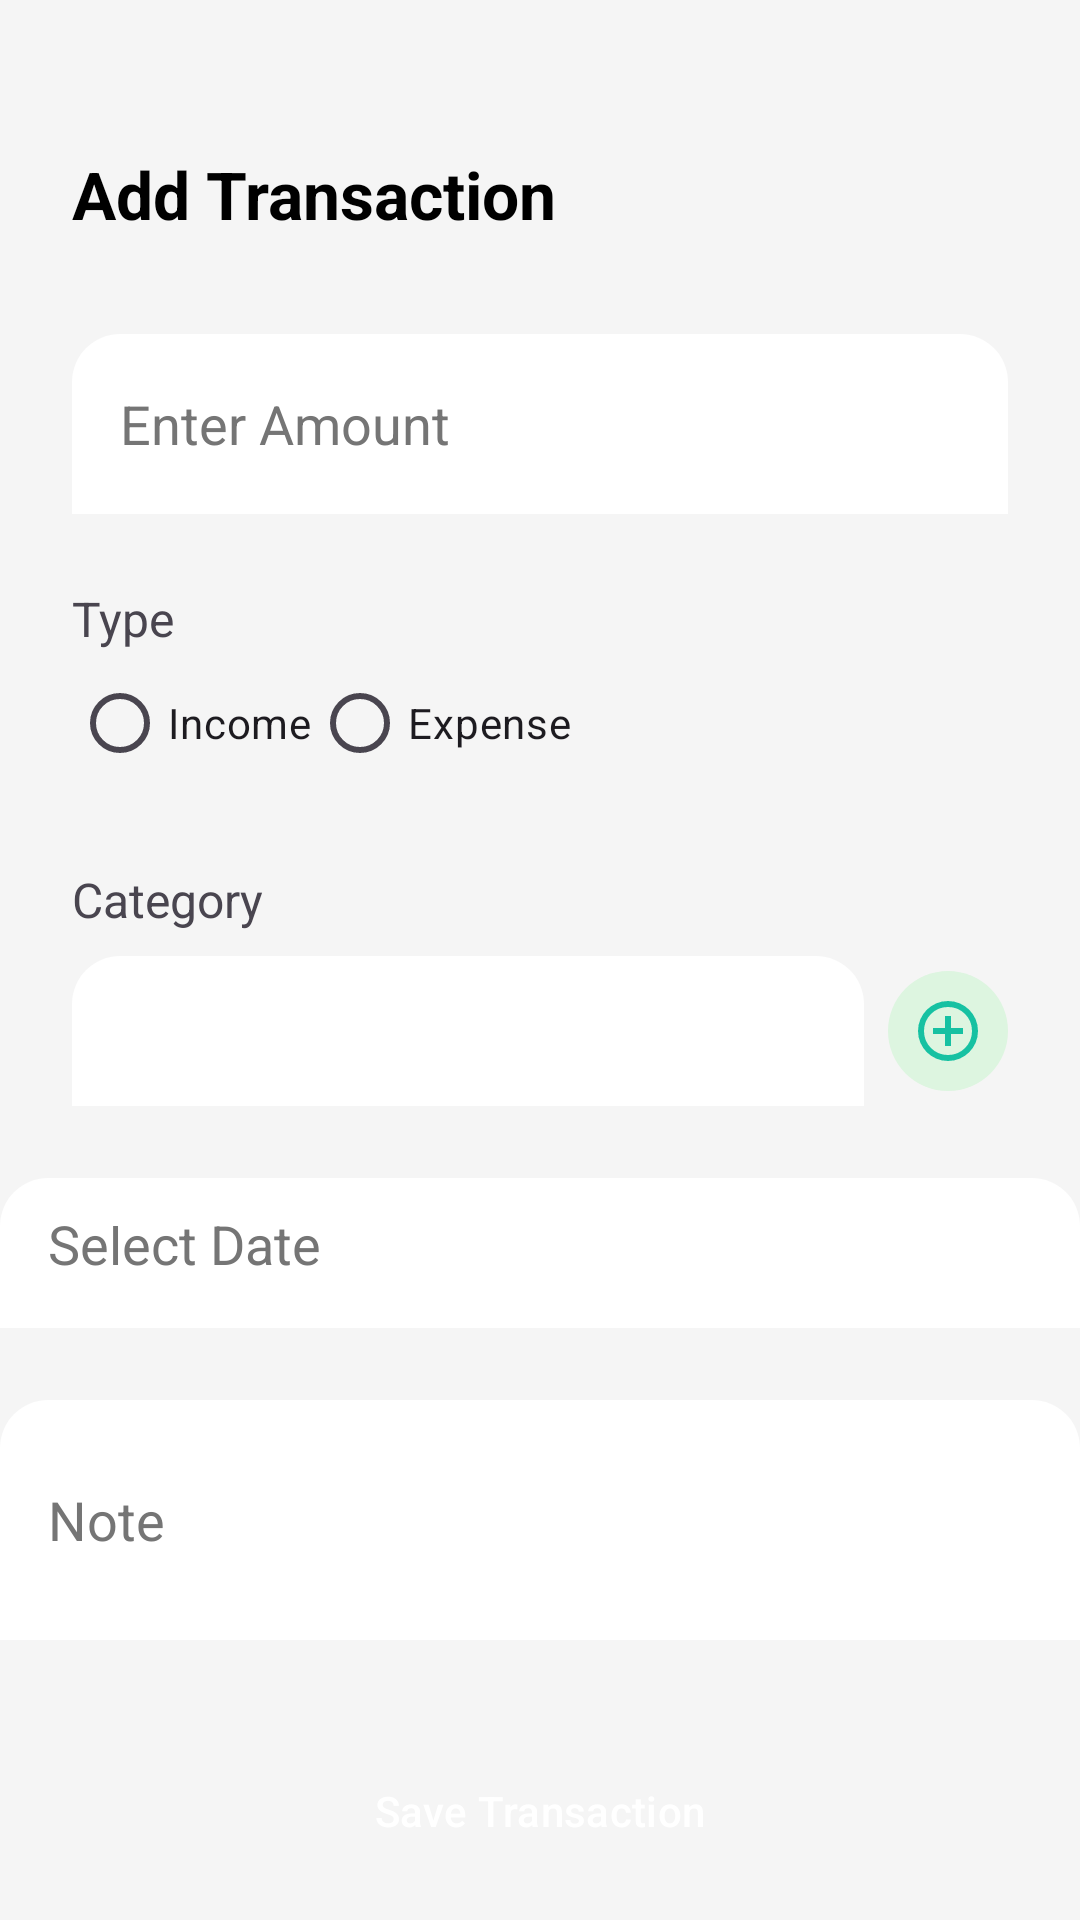

Named icons in this screenshot (1080 × 1920) and their bounding boxes, {"left": x1, "top": y1, "right": x2, "bottom": y2}:
New Category: {"left": 888, "top": 971, "right": 1008, "bottom": 1091}
